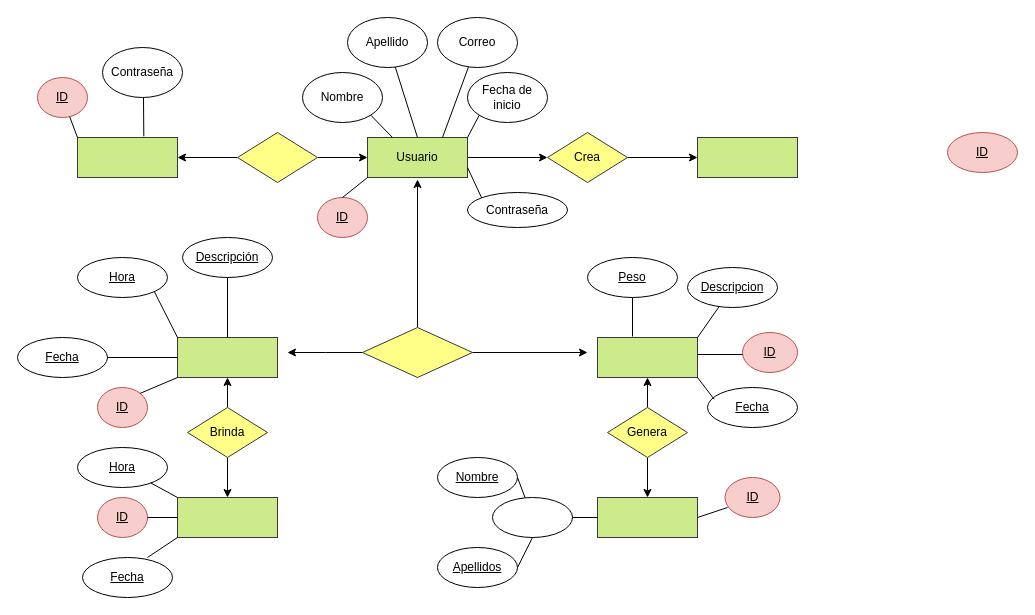
Some shapes in this 1035 by 615 pixel diagram are drawn without their labels. Each missing label, with the centre of its shape:
"Calendario" goes at (227,357).
"Control Mensual" goes at (647,357).
"Ingresa" goes at (417,352).
"Nombre Completo" goes at (532,517).
"Obstetra" goes at (647,517).
"Perfil" goes at (747,157).
"Recordatorio" goes at (227,517).
"Tiene" goes at (277,157).
"Tipo" goes at (127,157).
